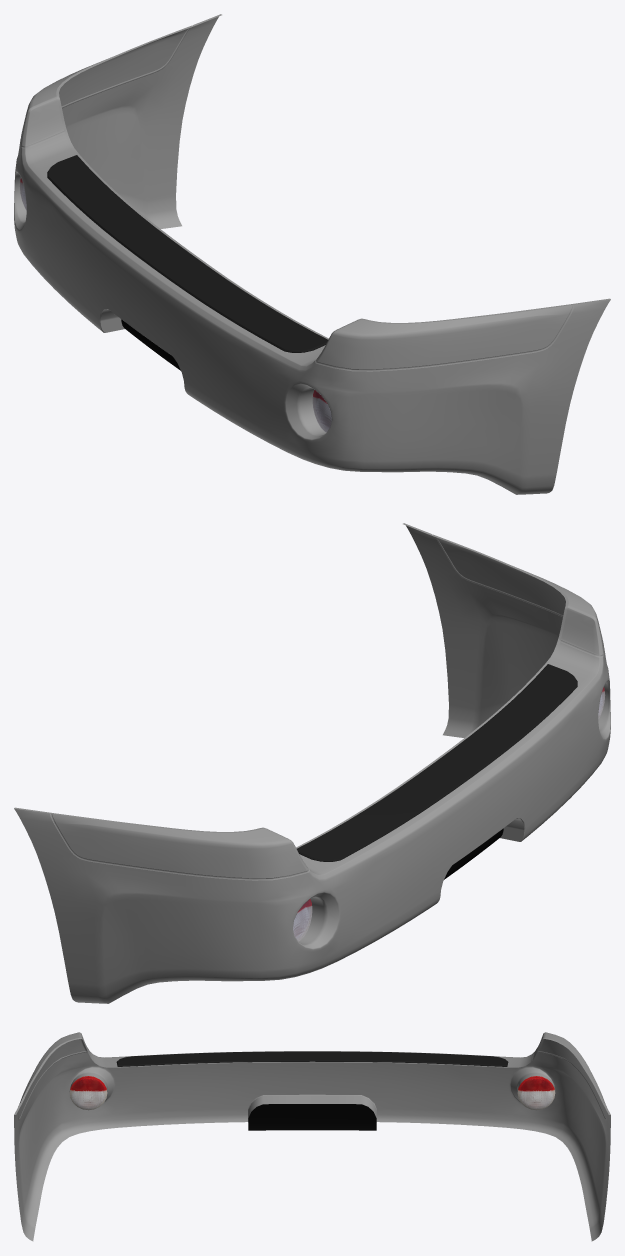
3 renders of one model, top to bottom at view 1: azimuth 30°, elevation 25°; view 2: azimuth 150°, elevation 25°; view 3: azimuth 270°, elevation 25°, orthographic. The views are drawn at different scales.
Parts seen in each view (by area): view 1: U721_561G_C_U721_561G_C_3_DaS, U721_561G_C_U721_561G_C_4_D, U721_561G_C_U721_561G_C_3_DaS_E; view 2: U721_561G_C_U721_561G_C_3_DaS, U721_561G_C_U721_561G_C_4_D, U721_561G_C_U721_561G_C_3_DaS_E; view 3: U721_561G_C_U721_561G_C_3_DaS, U721_561G_C_U721_561G_C_4_D, U721_561G_C_U721_561G_C_7_D, U721_561G_C_U721_561G_C_3_DaS_E, U721_561G_C_1_N_U721_561G_C, U721_561G_C_U721_561G_C_2_N.
Boxes of the visible parts, <box> form: U721_561G_C_U721_561G_C_3_DaS: <box>14,16,610,494</box>; U721_561G_C_U721_561G_C_4_D: <box>47,155,327,352</box>; U721_561G_C_U721_561G_C_3_DaS_E: <box>20,14,610,371</box>; U721_561G_C_U721_561G_C_3_DaS: <box>14,525,610,1003</box>; U721_561G_C_U721_561G_C_4_D: <box>297,664,577,861</box>; U721_561G_C_U721_561G_C_3_DaS_E: <box>14,523,604,880</box>; U721_561G_C_U721_561G_C_3_DaS: <box>14,1032,610,1241</box>; U721_561G_C_U721_561G_C_4_D: <box>116,1051,508,1066</box>; U721_561G_C_U721_561G_C_7_D: <box>248,1104,376,1130</box>; U721_561G_C_U721_561G_C_3_DaS_E: <box>14,1038,610,1121</box>; U721_561G_C_1_N_U721_561G_C: <box>517,1076,555,1110</box>; U721_561G_C_U721_561G_C_2_N: <box>69,1076,107,1110</box>.
Size of the model in its own units: 91.08 by 59.88 by 222.
